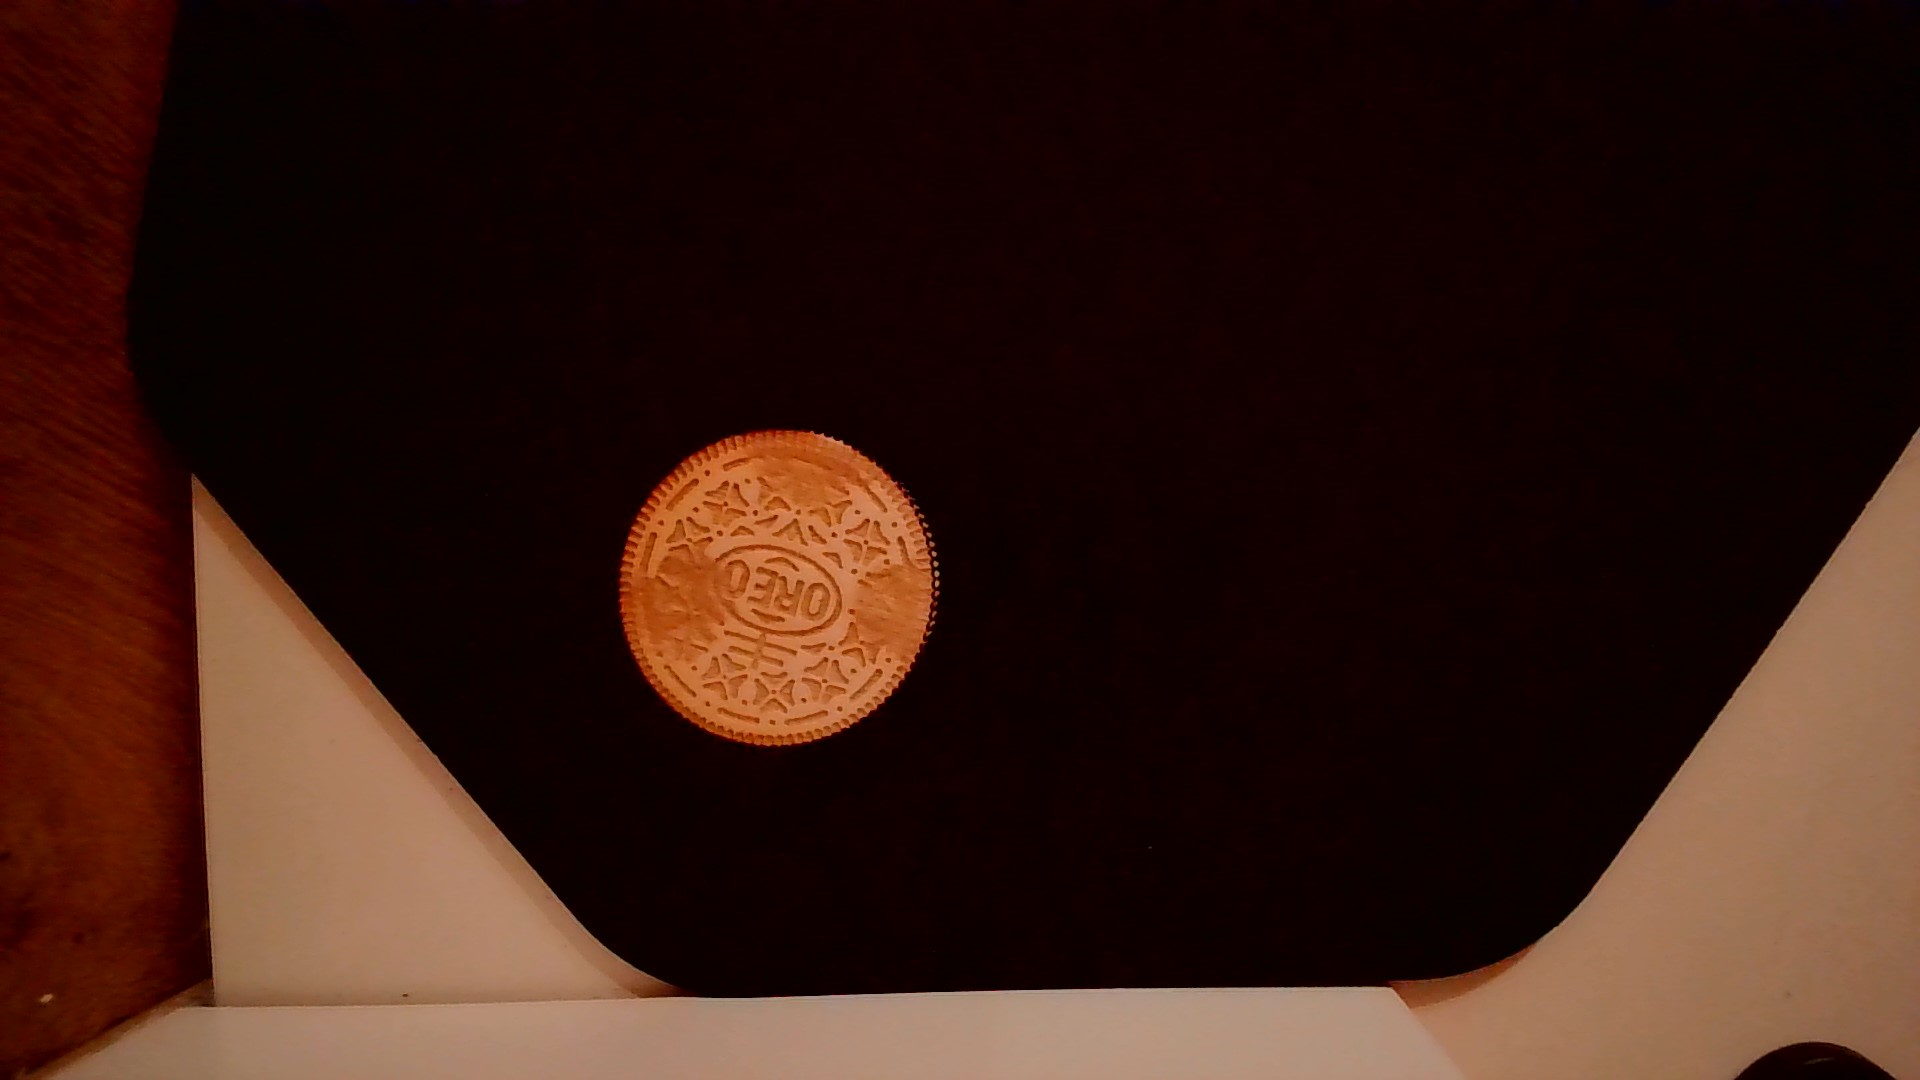Effacé: (624, 550, 708, 645), (753, 436, 856, 502), (866, 560, 931, 663)
Oréo: (611, 427, 945, 752)
